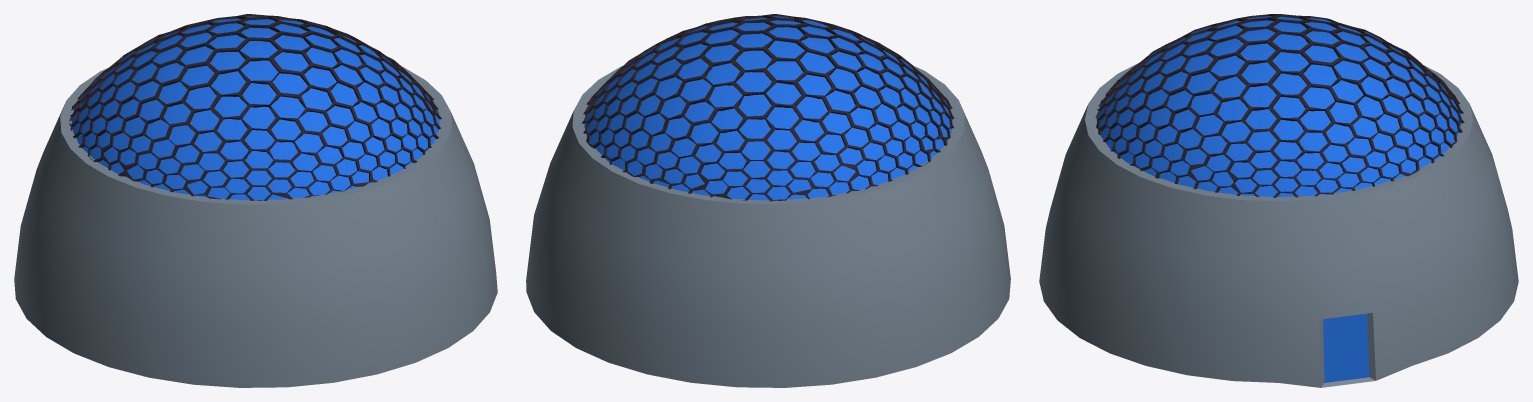
The model's file is Spherical_House_new.fbx.
3 views of the same model, side by side, from view 1: azimuth 30°, elevation 25°; view 2: azimuth 150°, elevation 25°; view 3: azimuth 270°, elevation 25° (orthographic).
Parts seen in each view (by area): view 1: Cylinder.008, Sphere.007, honeycomb.002; view 2: Cylinder.008, Sphere.007, honeycomb.002; view 3: Cylinder.008, Sphere.007, honeycomb.002, Cylinder.009.
Boxes of the visible parts, x1=… form: Cylinder.008: x1=14, y1=67, x2=497, y2=387; Sphere.007: x1=71, y1=16, x2=439, y2=200; honeycomb.002: x1=69, y1=14, x2=441, y2=200; Cylinder.008: x1=526, y1=66, x2=1010, y2=387; Sphere.007: x1=584, y1=16, x2=952, y2=200; honeycomb.002: x1=581, y1=14, x2=954, y2=201; Cylinder.008: x1=1039, y1=63, x2=1518, y2=387; Sphere.007: x1=1096, y1=16, x2=1461, y2=196; honeycomb.002: x1=1095, y1=14, x2=1464, y2=197; Cylinder.009: x1=1323, y1=313, x2=1369, y2=382.
Size of the model in its own units: 210 by 122 by 210.
